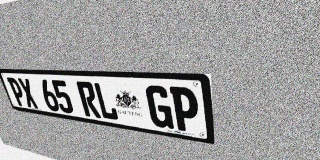5: (51, 80, 75, 114)
6: (38, 79, 61, 112)
G: (145, 85, 174, 129)
L: (93, 82, 119, 121)
P: (170, 86, 200, 133), (6, 77, 28, 107)
R: (76, 81, 101, 118)
X: (17, 78, 39, 109)
